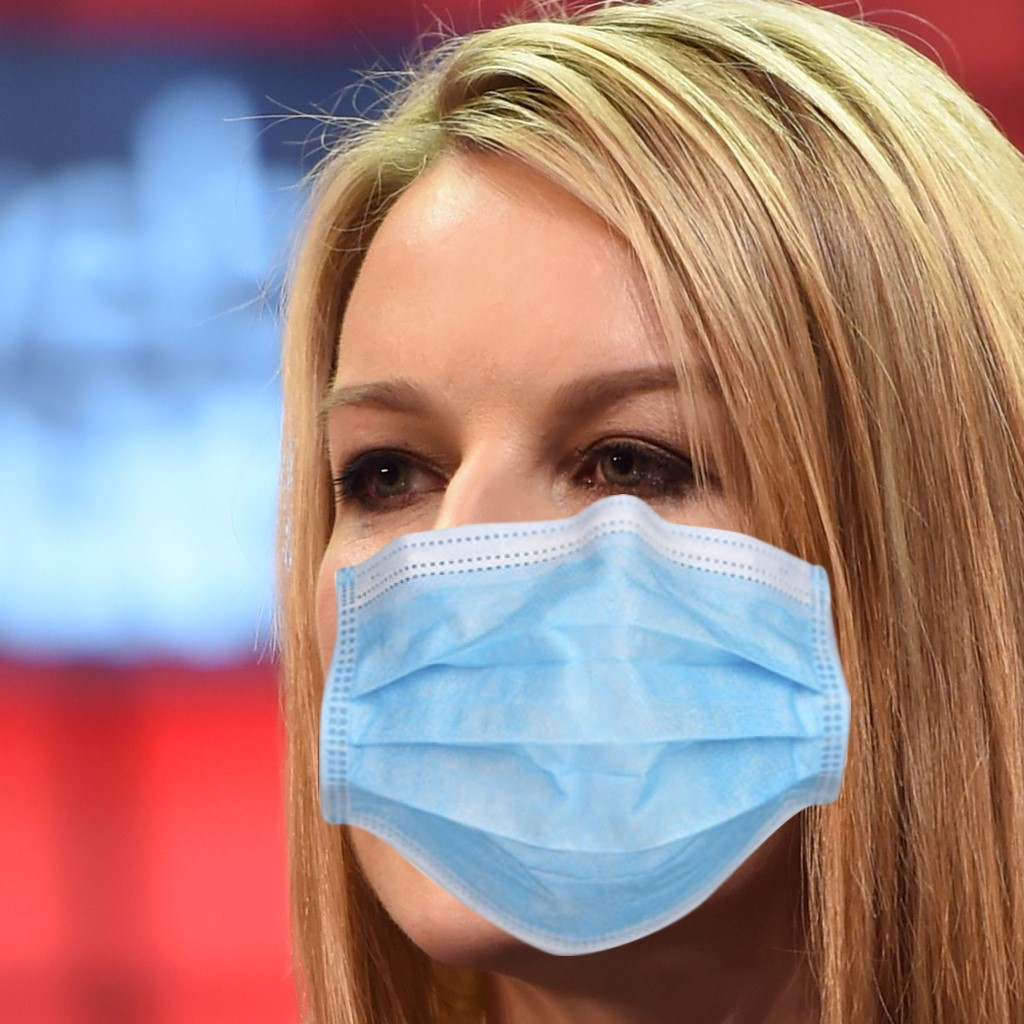con_mascara: (267, 72, 898, 958)
